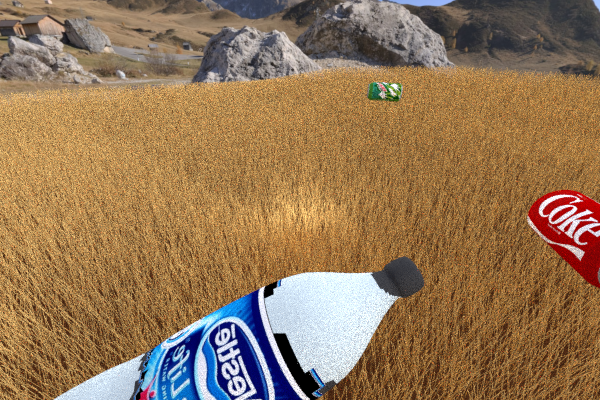bottle: (0, 256, 424, 400)
can: (527, 189, 600, 297), (366, 82, 402, 101)
